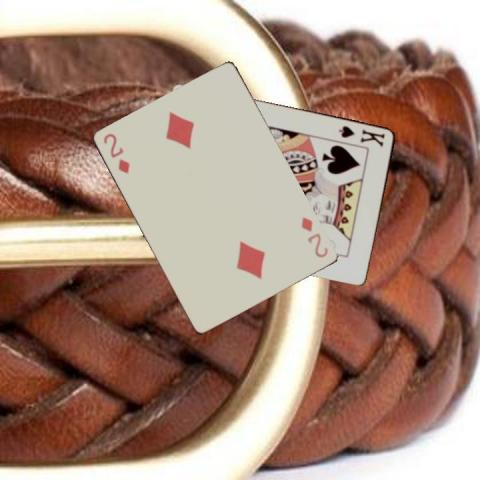2d: (299, 214, 330, 260), (101, 130, 132, 175)
Ks: (336, 123, 387, 148)
